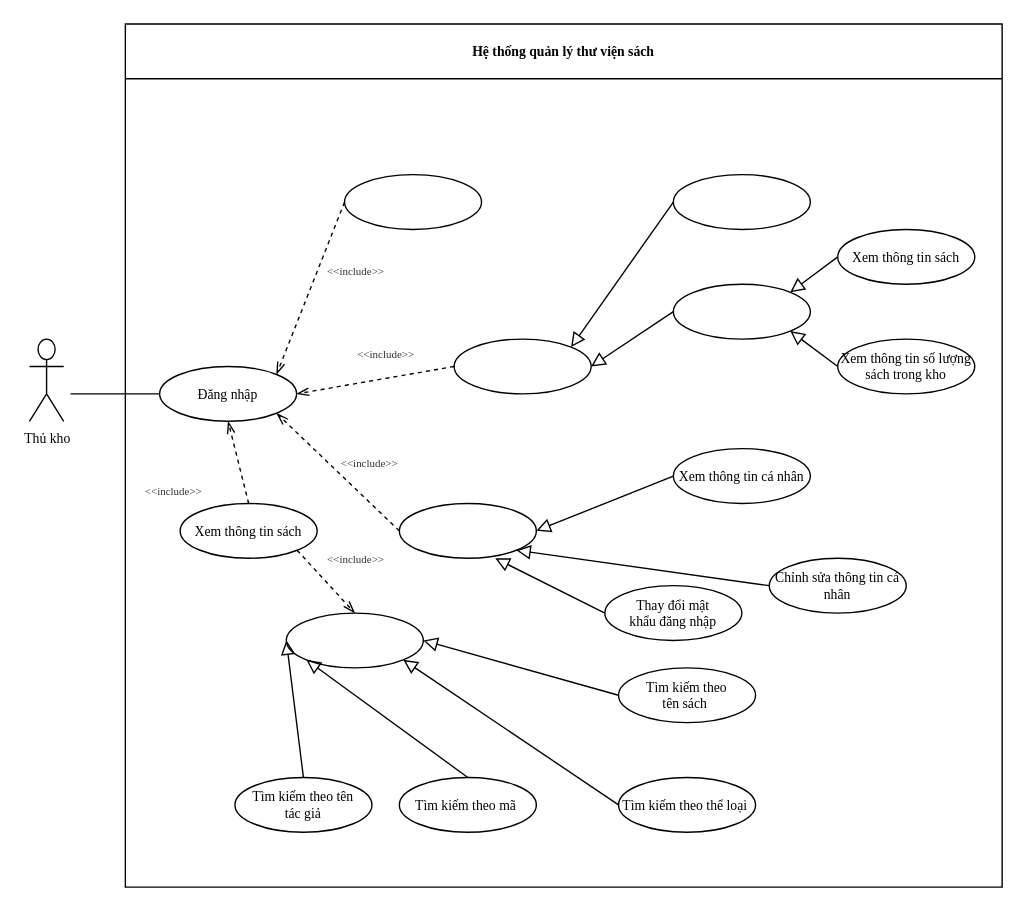
Some shapes in this 1026 by 911 pixel diagram are drawn without their labels. Here are the shapes that lost their labels. From the top down, the box of each, then its label:
(343, 173, 482, 229): Đăng xuất
(672, 173, 810, 229): Chỉnh sửa, xóa , thêm sách
(672, 283, 810, 339): Xem thông tín kho sách
(453, 338, 591, 394): Quản lý kho sách
(398, 502, 536, 558): Quản lý thông tin cá nhân
(285, 612, 423, 668): Tìm kiếm
